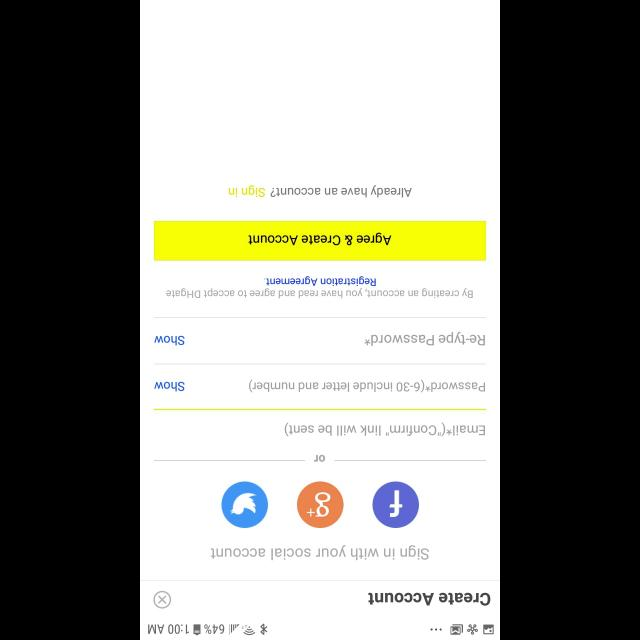icon: (372, 480, 420, 528), (296, 480, 344, 528), (220, 480, 268, 528), (153, 590, 171, 608)
input: (154, 317, 486, 347), (154, 363, 486, 393), (154, 409, 486, 437)
text: (165, 276, 472, 298), (211, 544, 429, 560), (249, 379, 485, 393), (284, 422, 484, 438), (228, 185, 412, 198), (368, 592, 490, 606), (364, 332, 484, 346), (154, 335, 186, 345), (154, 382, 184, 392), (314, 453, 326, 462)
textbutton: (154, 220, 486, 260)
uppertaskbar: (140, 622, 500, 640)
